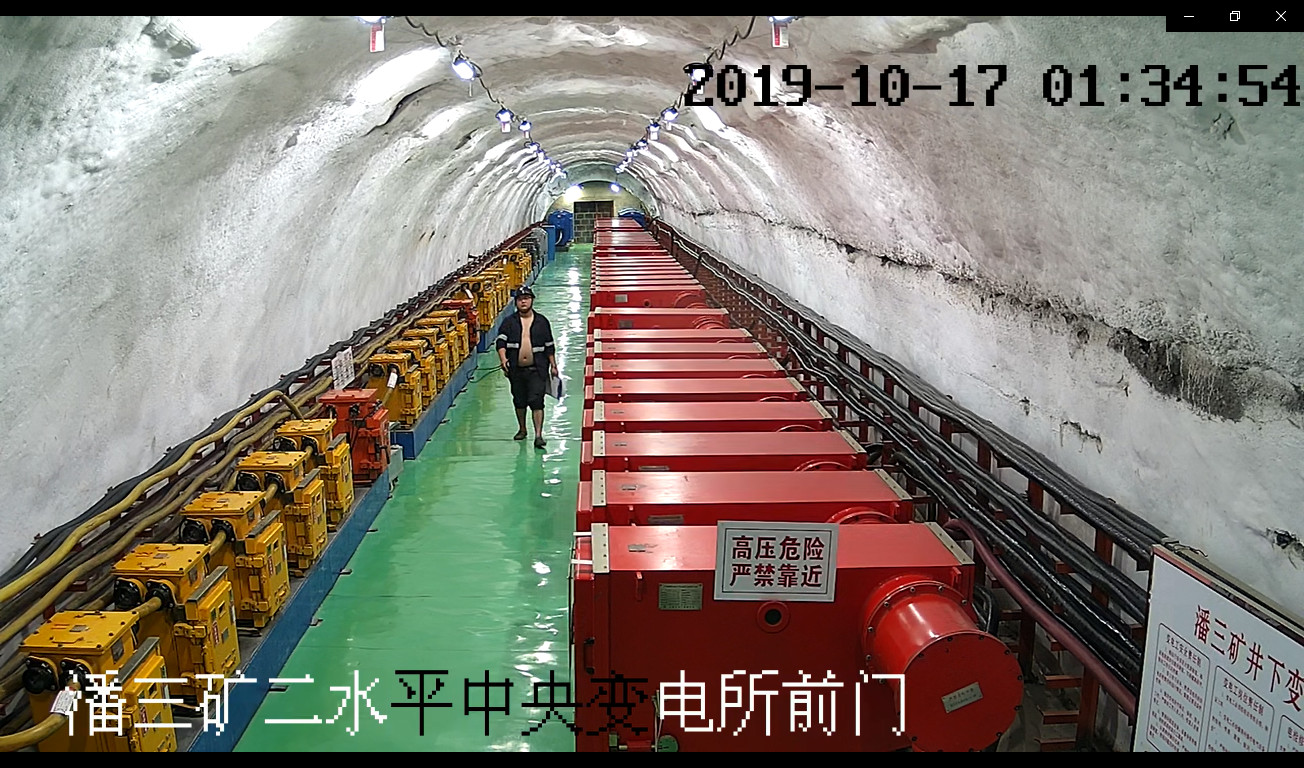helmet: (514, 284, 535, 299)
